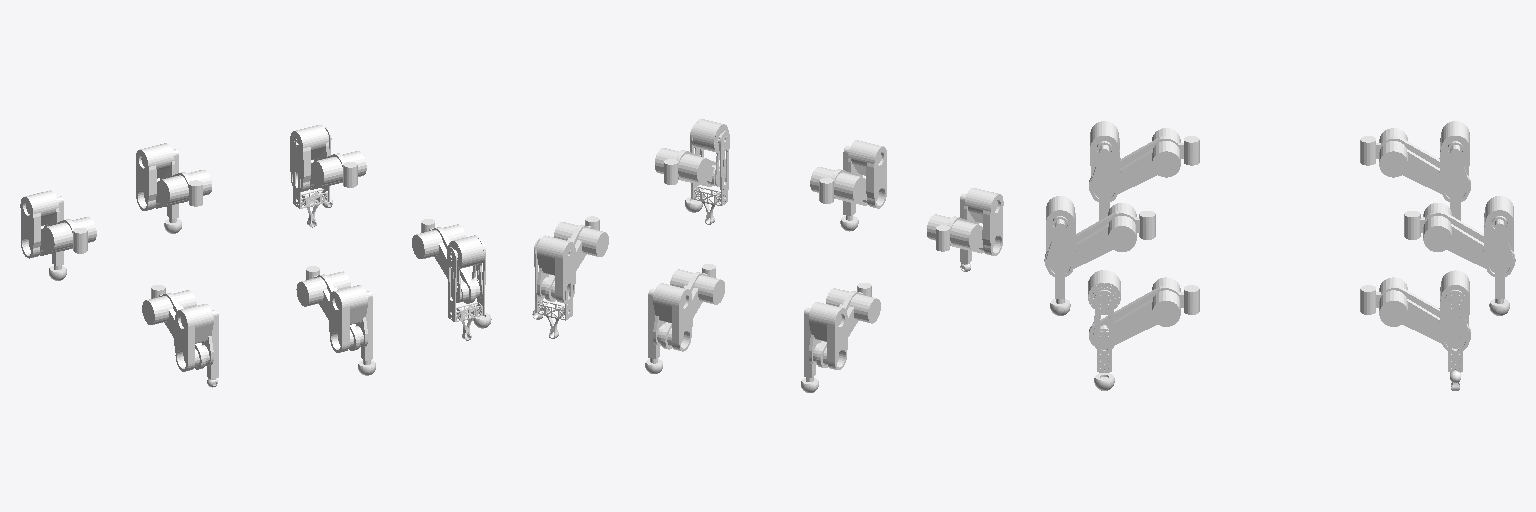
--- Facts derived from the render (not from the file) ---
Views: 3 orthographic renders of the robot side by side, from view 1: azimuth 30°, elevation 25°; view 2: azimuth 150°, elevation 25°; view 3: azimuth 270°, elevation 25°.
Robot: XiangYu — 25 links, 24 joints (18 revolute, 6 fixed); root link base_link; default pose: all joints at 0.
Visible links, largest first — view 1: RF_HIP, RM_THIGH, RB_THIGH, RB_HIP, LM_THIGH, RM_HIP, LB_THIGH, LB_HIP, LM_HIP, LF_HIP, LF_THIGH, RF_SHANK (+4 smaller); view 2: LM_THIGH, LB_THIGH, LM_HIP, LB_HIP, RM_THIGH, LF_HIP, RB_THIGH, RF_HIP, LF_THIGH, RM_HIP, RB_HIP, RF_SHANK (+4 smaller); view 3: RF_HIP, LF_HIP, RM_HIP, LM_HIP, RB_HIP, LB_HIP, RM_THIGH, LM_THIGH, RB_THIGH, LB_THIGH, LF_THIGH, LF_SHANK (+6 smaller).
Boxes of the visible links, left/top/right/bottom form: RF_HIP: left=412, top=219, right=480, bottom=303; RM_THIGH: left=329, top=285, right=367, bottom=352; RB_THIGH: left=174, top=304, right=213, bottom=371; RB_HIP: left=142, top=285, right=209, bottom=369; LM_THIGH: left=136, top=143, right=174, bottom=210; RM_HIP: left=296, top=266, right=363, bottom=350; LB_THIGH: left=20, top=190, right=59, bottom=258; LB_HIP: left=29, top=217, right=96, bottom=255; LM_HIP: left=144, top=170, right=211, bottom=208; LF_HIP: left=309, top=151, right=366, bottom=189; LF_THIGH: left=290, top=125, right=329, bottom=191; RF_SHANK: left=447, top=241, right=485, bottom=340; LM_THIGH: left=653, top=283, right=692, bottom=351; LB_THIGH: left=809, top=302, right=847, bottom=369; LM_HIP: left=657, top=264, right=724, bottom=349; LB_HIP: left=813, top=283, right=880, bottom=367; RM_THIGH: left=848, top=140, right=886, bottom=208; LF_HIP: left=541, top=216, right=608, bottom=301; RB_THIGH: left=964, top=188, right=1003, bottom=255; RF_HIP: left=655, top=148, right=719, bottom=186; LF_THIGH: left=537, top=235, right=575, bottom=303; RM_HIP: left=810, top=167, right=878, bottom=205; RB_HIP: left=927, top=214, right=994, bottom=253; RF_SHANK: left=690, top=124, right=729, bottom=224; RF_HIP: left=1089, top=277, right=1199, bottom=345; LF_HIP: left=1360, top=277, right=1470, bottom=348; RM_HIP: left=1044, top=203, right=1155, bottom=272; LM_HIP: left=1404, top=203, right=1515, bottom=272; RB_HIP: left=1089, top=128, right=1199, bottom=197; LB_HIP: left=1360, top=128, right=1470, bottom=197; RM_THIGH: left=1046, top=196, right=1076, bottom=276; LM_THIGH: left=1483, top=196, right=1513, bottom=276; RB_THIGH: left=1090, top=121, right=1120, bottom=201; LB_THIGH: left=1439, top=121, right=1469, bottom=201; LF_THIGH: left=1439, top=270, right=1469, bottom=350; LF_SHANK: left=1445, top=290, right=1465, bottom=390.
Bounding box of the posed robot: 1.4 × 1.6 × 0.428 m (x, y, z).
Meshes: 25 distinct files referenced, 24 mesh visuals loaded (24 binary STL); not drawn: 1 (reference not matched to a file when rendering).

URDF robot description (XiangYu):
<?xml version="1.0" encoding="utf-8"?>
<!-- This URDF was created by RCAMC k206 ZZL -->
<robot
  name="XiangYu">
  <link
    name="base_link">
    <inertial>
      <origin
        xyz="-3.17836601824023E-05 -2.48295152551897E-05 0.0135000379414812"
        rpy="0 0 0" />
      <mass
        value="35.697" />
      <inertia
        ixx="2.673775"
        ixy="-0.361433135"
        ixz="761.1E-06"
        iyy="7.163591350"
        iyz="-15.915E-06"
        izz="9.49691187" />
    </inertial>
    <visual>
      <origin
        xyz="0 0 0"
        rpy="0 0 0" />
      <geometry>
        <mesh
          filename="package://robot/urdf/elspider3/meshes/base_link.STL" />
      </geometry>
      <material
        name="">
        <color
          rgba="1 1 1 1" />
      </material>
    </visual>
    <collision>
      <origin
        xyz="0 0 0"
        rpy="0 0 0" />
      <geometry>
        <mesh
          filename="package://robot/urdf/elspider3/meshes/base_link.STL" />
      </geometry>
    </collision>
  </link>
  <link
    name="RF_HIP">
    <inertial>
      <origin
        xyz="0.13994 0 -0.038094"
        rpy="0 0 0" />
      <mass
        value="4.576" />
      <inertia
        ixx=" 0.023983507"
        ixy="128.450E-6"
        ixz="19229.644E-6"
        iyy="52366.887E-6"
        iyz=" 73.833E-6"
        izz="48859.116E-6" />
    </inertial>
    <visual>
      <origin
        xyz="0 0 0"
        rpy="0 0 0" />
      <geometry>
        <mesh
          filename="package://robot/urdf/elspider3/meshes/RF_HIP.STL" />
      </geometry>
      <material
        name="">
        <color
          rgba="1 1 1 1" />
      </material>
    </visual>
    <collision>
      <origin
        xyz="0 0 0"
        rpy="0 0 0" />
      <geometry>
        <mesh
          filename="package://robot/urdf/elspider3/meshes/RF_HIP.STL" />
      </geometry>
    </collision>
  </link>
  <joint
    name="RF_HAA"
    type="revolute">
    <origin
      xyz="0.6 -0.3 0"
      rpy="0 0 -1.5708" />
    <parent
      link="base_link" />
    <child
      link="RF_HIP" />
    <axis
      xyz="0 0 1" />
    <limit
      lower="-3.14"
      upper="3.14"
      effort="180"
      velocity="14.65" />
  </joint>
  <link
    name="RF_THIGH">
    <inertial>
      <origin
        xyz="0.10923291892502 -0.000624705561420247 -0.0166641862389202"
        rpy="0 0 0" />
      <mass
        value="0.993" />
      <inertia
        ixx="2436.749E-06"
        ixy="27.289E-06"
        ixz="-202.297E-06"
        iyy="6542.962E-06"
        iyz="71.720E-06"
        izz="5800.246E-06" />
    </inertial>
    <visual>
      <origin
        xyz="0 0 0"
        rpy="0 0 0" />
      <geometry>
        <mesh
          filename="package://robot/urdf/elspider3/meshes/RF_THIGH.STL" />
      </geometry>
      <material
        name="">
        <color
          rgba="1 1 1 1" />
      </material>
    </visual>
    <collision>
      <origin
        xyz="0 0 0"
        rpy="0 0 0" />
      <geometry>
        <mesh
          filename="package://robot/urdf/elspider3/meshes/RF_THIGH.STL" />
      </geometry>
    </collision>
  </link>
  <joint
    name="RF_HFE"
    type="revolute">
    <origin
      xyz="0.29613 0 -0.12556"
      rpy="-1.5708 -1.5708 0" />
    <parent
      link="RF_HIP" />
    <child
      link="RF_THIGH" />
    <axis
      xyz="0 0 1" />
    <limit
      lower="-3.14"
      upper="3.14"
      effort="108"
      velocity="16.22" />
  </joint>
  <link
    name="RF_SHANK">
    <inertial>
      <origin
        xyz="-1.11022302462516E-16 -0.0816966215032782 -0.0418616598294677"
        rpy="0 0 0" />
      <mass
        value="0.428" />
      <inertia
        ixx="4000E-6"
        ixy="-0.056E-6"
        ixz="0.13E-6"
        iyy="1200E-6"
        iyz="-306.404E-6"
        izz="4000E-6" />
    </inertial>
    <visual>
      <origin
        xyz="0 0 0"
        rpy="0 0 0" />
      <geometry>
        <mesh
          filename="package://robot/urdf/elspider3/meshes/RF_SHANK.STL" />
      </geometry>
      <material
        name="">
        <color
          rgba="1 1 1 1" />
      </material>
    </visual>
    <collision>
      <origin
        xyz="0 0 0"
        rpy="0 0 0" />
      <geometry>
        <mesh
          filename="package://robot/urdf/elspider3/meshes/RF_SHANK.STL" />
      </geometry>
    </collision>
  </link>
  <joint
    name="RF_KFE"
    type="revolute">
    <origin
      xyz="0.16 0 0"
      rpy="3.1416 0 1.5708" />
    <parent
      link="RF_THIGH" />
    <child
      link="RF_SHANK" />
    <axis
      xyz="0 0 1" />
    <limit
      lower="-3.14"
      upper="3.14"
      effort="108"
      velocity="16.22" />
  </joint>
  <link
    name="RF_FOOT">
    <inertial>
      <origin
        xyz="0 0 -0.0204313049246201"
        rpy="0 0 0" />
      <mass
        value="0.166" />
      <inertia
        ixx="62.496E-06"
        ixy="0.001E-06"
        ixz="0"
        iyy="62.515E-06"
        iyz="0.002E-06"
        izz="84.269E-06" />
    </inertial>
    <visual>
      <origin
        xyz="0 0 0"
        rpy="0 0 0" />
      <geometry>
        <mesh
          filename="package://robot/urdf/elspider3/meshes/RF_FOOT.STL" />
      </geometry>
      <material
        name="">
        <color
          rgba="1 1 1 1" />
      </material>
    </visual>
    <collision>
      <origin
        xyz="0 0 0"
        rpy="0 0 0" />
      <geometry>
        <mesh
          filename="package://robot/urdf/elspider3/meshes/RF_FOOT.STL" />
      </geometry>
    </collision>
  </link>
  <joint
    name="RF_FIX"
    type="fixed" dont_collapse="true">
    <origin
      xyz="0 -0.286 -0.07"
      rpy="1.5708 0 3.1416" />
    <parent
      link="RF_SHANK" />
    <child
      link="RF_FOOT" />
    <axis
      xyz="0 0 0" />
  </joint>
  <link
    name="RM_HIP">
    <inertial>
      <origin
        xyz="0.139938359267434 5.88058135410304E-17 -0.0380935415481548"
        rpy="0 0 0" />
      <mass
        value="4.576" />
      <inertia
        ixx=" 0.023983507"
        ixy="128.450E-6"
        ixz="19229.644E-6"
        iyy="52366.887E-6"
        iyz=" 73.833E-6"
        izz="48859.116E-6" />
    </inertial>
    <visual>
      <origin
        xyz="0 0 0"
        rpy="0 0 0" />
      <geometry>
        <mesh
          filename="package://robot/urdf/elspider3/meshes/RM_HIP.STL" />
      </geometry>
      <material
        name="">
        <color
          rgba="1 1 1 1" />
      </material>
    </visual>
    <collision>
      <origin
        xyz="0 0 0"
        rpy="0 0 0" />
      <geometry>
        <mesh
          filename="package://robot/urdf/elspider3/meshes/RM_HIP.STL" />
      </geometry>
    </collision>
  </link>
  <joint
    name="RM_HAA"
    type="revolute">
    <origin
      xyz="0 -0.45 0"
      rpy="0 0 -1.5708" />
    <parent
      link="base_link" />
    <child
      link="RM_HIP" />
    <axis
      xyz="0 0 1" />
    <limit
      lower="-3.14"
      upper="3.14"
      effort="180"
      velocity="14.65" />
  </joint>
  <link
    name="RM_THIGH">
    <inertial>
      <origin
        xyz="0.10923291892502 -0.000624705561420247 -0.0166641862389207"
        rpy="0 0 0" />
      <mass
        value="0.993" />
      <inertia
        ixx="2436.749E-06"
        ixy="27.289E-06"
        ixz="-202.297E-06"
        iyy="6542.962E-06"
        iyz="71.720E-06"
        izz="5800.246E-06" />
    </inertial>
    <visual>
      <origin
        xyz="0 0 0"
        rpy="0 0 0" />
      <geometry>
        <mesh
          filename="package://robot/urdf/elspider3/meshes/RM_THIGH.STL" />
      </geometry>
      <material
        name="">
        <color
          rgba="1 1 1 1" />
      </material>
    </visual>
    <collision>
      <origin
        xyz="0 0 0"
        rpy="0 0 0" />
      <geometry>
        <mesh
          filename="package://robot/urdf/elspider3/meshes/RM_THIGH.STL" />
      </geometry>
    </collision>
  </link>
  <joint
    name="RM_HFE"
    type="revolute">
    <origin
      xyz="0.29613 0 -0.12556"
      rpy="-1.5708 -1.5708 0" />
    <parent
      link="RM_HIP" />
    <child
      link="RM_THIGH" />
    <axis
      xyz="0 0 1" />
    <limit
      lower="-3.14"
      upper="3.14"
      effort="108"
      velocity="16.22" />
  </joint>
  <link
    name="RM_SHANK">
    <inertial>
      <origin
        xyz="0 -0.0816966215032781 -0.0418616598294671"
        rpy="0 0 0" />
      <mass
        value="0.428" />
      <inertia
        ixx="4000E-6"
        ixy="-0.056E-6"
        ixz="0.13E-6"
        iyy="1200E-6"
        iyz="-306.404E-6"
        izz="4000E-6" />
    </inertial>
    <visual>
      <origin
        xyz="0 0 0"
        rpy="0 0 0" />
      <geometry>
        <mesh
          filename="package://robot/urdf/elspider3/meshes/RM_SHANK.STL" />
      </geometry>
      <material
        name="">
        <color
          rgba="1 1 1 1" />
      </material>
    </visual>
    <collision>
      <origin
        xyz="0 0 0"
        rpy="0 0 0" />
      <geometry>
        <mesh
          filename="package://robot/urdf/elspider3/meshes/RM_SHANK.STL" />
      </geometry>
    </collision>
  </link>
  <joint
    name="RM_KFE"
    type="revolute">
    <origin
      xyz="0.16 0 0"
      rpy="3.1416 0 1.5708" />
    <parent
      link="RM_THIGH" />
    <child
      link="RM_SHANK" />
    <axis
      xyz="0 0 1" />
    <limit
      lower="-3.14"
      upper="3.14"
      effort="108"
      velocity="16.22" />
  </joint>
  <link
    name="RM_FOOT">
    <inertial>
      <origin
        xyz="1.11022302462516E-16 0 -0.02043130492462"
        rpy="0 0 0" />
      <mass
        value="0.166" />
      <inertia
        ixx="62.496E-06"
        ixy="0.001E-06"
        ixz="0"
        iyy="62.515E-06"
        iyz="0.002E-06"
        izz="84.269E-06" />
    </inertial>
    <visual>
      <origin
        xyz="0 0 0"
        rpy="0 0 0" />
      <geometry>
        <mesh
          filename="package://robot/urdf/elspider3/meshes/RM_FOOT.STL" />
      </geometry>
      <material
        name="">
        <color
          rgba="1 1 1 1" />
      </material>
    </visual>
    <collision>
      <origin
        xyz="0 0 0"
        rpy="0 0 0" />
      <geometry>
        <mesh
          filename="package://robot/urdf/elspider3/meshes/RM_FOOT.STL" />
      </geometry>
    </collision>
  </link>
  <joint
    name="RM_FIX"
    type="fixed" dont_collapse="true">
    <origin
      xyz="0 -0.286 -0.07"
      rpy="1.5708 0 3.1416" />
    <parent
      link="RM_SHANK" />
    <child
      link="RM_FOOT" />
    <axis
      xyz="0 0 0" />
  </joint>
  <link
    name="RB_HIP">
    <inertial>
      <origin
        xyz="0.139938359267434 0 -0.0380935415481548"
        rpy="0 0 0" />
      <mass
        value="4.576" />
      <inertia
        ixx=" 0.023983507"
        ixy="128.450E-6"
        ixz="19229.644E-6"
        iyy="52366.887E-6"
        iyz=" 73.833E-6"
        izz="48859.116E-6" />
    </inertial>
    <visual>
      <origin
        xyz="0 0 0"
        rpy="0 0 0" />
      <geometry>
        <mesh
          filename="package://robot/urdf/elspider3/meshes/RB_HIP.STL" />
      </geometry>
      <material
        name="">
        <color
          rgba="1 1 1 1" />
      </material>
    </visual>
    <collision>
      <origin
        xyz="0 0 0"
        rpy="0 0 0" />
      <geometry>
        <mesh
          filename="package://robot/urdf/elspider3/meshes/RB_HIP.STL" />
      </geometry>
    </collision>
  </link>
  <joint
    name="RB_HAA"
    type="revolute">
    <origin
      xyz="-0.6 -0.3 0"
      rpy="0 0 -1.5708" />
    <parent
      link="base_link" />
    <child
      link="RB_HIP" />
    <axis
      xyz="0 0 1" />
    <limit
      lower="-3.14"
      upper="3.14"
      effort="180"
      velocity="14.65" />
  </joint>
  <link
    name="RB_THIGH">
    <inertial>
      <origin
        xyz="0.10923291892502 -0.000624568769209466 -0.016664186238915"
        rpy="0 0 0" />
      <mass
        value="0.993" />
      <inertia
        ixx="2436.749E-06"
        ixy="27.289E-06"
        ixz="-202.297E-06"
        iyy="6542.962E-06"
        iyz="71.720E-06"
        izz="5800.246E-06" />
    </inertial>
    <visual>
      <origin
        xyz="0 0 0"
        rpy="0 0 0" />
      <geometry>
        <mesh
          filename="package://robot/urdf/elspider3/meshes/RB_THIGH.STL" />
      </geometry>
      <material
        name="">
        <color
          rgba="1 1 1 1" />
      </material>
    </visual>
    <collision>
      <origin
        xyz="0 0 0"
        rpy="0 0 0" />
      <geometry>
        <mesh
          filename="package://robot/urdf/elspider3/meshes/RB_THIGH.STL" />
      </geometry>
    </collision>
  </link>
  <joint
    name="RB_HFE"
    type="revolute">
    <origin
      xyz="0.29613 0 -0.12556"
      rpy="-1.5708 -1.5708 0" />
    <parent
      link="RB_HIP" />
    <child
      link="RB_THIGH" />
    <axis
      xyz="0 0 1" />
    <limit
      lower="-3.14"
      upper="3.14"
      effort="108"
      velocity="16.22" />
  </joint>
  <link
    name="RB_SHANK">
    <inertial>
      <origin
        xyz="1.36792210891912E-07 -0.0816966215032781 -0.0418616598294727"
        rpy="0 0 0" />
      <mass
        value="0.428" />
      <inertia
        ixx="4000E-6"
        ixy="-0.056E-6"
        ixz="0.13E-6"
        iyy="1200E-6"
        iyz="-306.404E-6"
        izz="4000E-6" />
    </inertial>
    <visual>
      <origin
        xyz="0 0 0"
        rpy="0 0 0" />
      <geometry>
        <mesh
          filename="package://robot/urdf/elspider3/meshes/RB_SHANK.STL" />
      </geometry>
      <material
        name="">
        <color
          rgba="1 1 1 1" />
      </material>
    </visual>
    <collision>
      <origin
        xyz="0 0 0"
        rpy="0 0 0" />
      <geometry>
        <mesh
          filename="package://robot/urdf/elspider3/meshes/RB_SHANK.STL" />
      </geometry>
    </collision>
  </link>
  <joint
    name="RB_KFE"
    type="revolute">
    <origin
      xyz="0.16 0 0"
      rpy="3.1416 0 1.5708" />
    <parent
      link="RB_THIGH" />
    <child
      link="RB_SHANK" />
    <axis
      xyz="0 0 1" />
    <limit
      lower="-3.14"
      upper="3.14"
      effort="108"
      velocity="16.22" />
  </joint>
  <link
    name="RB_FOOT">
    <inertial>
      <origin
        xyz="0 0 -0.0204313049246201"
        rpy="0 0 0" />
      <mass
        value="0.166" />
      <inertia
        ixx="62.496E-06"
        ixy="0.001E-06"
        ixz="0"
        iyy="62.515E-06"
        iyz="0.002E-06"
        izz="84.269E-06" />
    </inertial>
    <visual>
      <origin
        xyz="0 0 0"
        rpy="0 0 0" />
      <geometry>
        <mesh
          filename="package://robot/urdf/elspider3/meshes/RB_FOOT.STL" />
      </geometry>
      <material
        name="">
        <color
          rgba="1 1 1 1" />
      </material>
    </visual>
    <collision>
      <origin
        xyz="0 0 0"
        rpy="0 0 0" />
      <geometry>
        <mesh
          filename="package://robot/urdf/elspider3/meshes/RB_FOOT.STL" />
      </geometry>
    </collision>
  </link>
  <joint
    name="RB_FIX"
    type="fixed" dont_collapse="true">
    <origin
      xyz="0 -0.286 -0.0700000000000011"
      rpy="1.5707963267949 0 3.14159265358979" />
    <parent
      link="RB_SHANK" />
    <child
      link="RB_FOOT" />
    <axis
      xyz="0 0 0" />
  </joint>
  <link
    name="LF_HIP">
    <inertial>
      <origin
        xyz="0.000248105860530035 0.139937948890802 -0.0380935415481548"
        rpy="0 0 0" />
      <mass
        value="4.576" />
      <inertia
        ixx="52366.887E-6"
        ixy="-128.450E-6"
        ixz="73.833E-6"
        iyy="0.023983507"
        iyz="19229.644E-6"
        izz="48859.116E-6" />
    </inertial>
    <visual>
      <origin
        xyz="0 0 0"
        rpy="0 0 0" />
      <geometry>
        <mesh
          filename="package://robot/urdf/elspider3/meshes/LF_HIP.STL" />
      </geometry>
      <material
        name="">
        <color
          rgba="1 1 1 1" />
      </material>
    </visual>
    <collision>
      <origin
        xyz="0 0 0"
        rpy="0 0 0" />
      <geometry>
        <mesh
          filename="package://robot/urdf/elspider3/meshes/LF_HIP.STL" />
      </geometry>
    </collision>
  </link>
  <joint
    name="LF_HAA"
    type="revolute">
    <origin
      xyz="0.59975 0.3 0"
      rpy="0 0 0" />
    <parent
      link="base_link" />
    <child
      link="LF_HIP" />
    <axis
      xyz="0 0 -1" />
    <limit
      lower="-3.14"
      upper="3.14"
      effort="180"
      velocity="14.65" />
  </joint>
  <link
    name="LF_THIGH">
    <inertial>
      <origin
        xyz="0.109232918925035 -0.000624705561416805 0.0166641862389164"
        rpy="0 0 0" />
      <mass
        value="0.993" />
      <inertia
        ixx="2436.749E-06"
        ixy="-27.289E-06"
        ixz="202.297E-06"
        iyy="6542.962E-06"
        iyz="71.720E-06"
        izz="5800.246E-06" />
    </inertial>
    <visual>
      <origin
        xyz="0 0 0"
        rpy="0 0 0" />
      <geometry>
        <mesh
          filename="package://robot/urdf/elspider3/meshes/LF_THIGH.STL" />
      </geometry>
      <material
        name="">
        <color
          rgba="1 1 1 1" />
      </material>
    </visual>
    <collision>
      <origin
        xyz="0 0 0"
        rpy="0 0 0" />
      <geometry>
        <mesh
          filename="package://robot/urdf/elspider3/meshes/LF_THIGH.STL" />
      </geometry>
    </collision>
  </link>
  <joint
    name="LF_HFE"
    type="revolute">
    <origin
      xyz="0.00024811 0.29613 -0.12556"
      rpy="0 -1.5708 0" />
    <parent
      link="LF_HIP" />
    <child
      link="LF_THIGH" />
    <axis
      xyz="0 0 1" />
    <limit
      lower="-3.14"
      upper="3.14"
      effort="108"
      velocity="16.22" />
  </joint>
  <link
    name="LF_SHANK">
    <inertial>
      <origin
        xyz="-7.7715611723761E-16 -0.0816966215032775 0.041861659829467"
        rpy="0 0 0" />
      <mass
        value="0.55881277413683" />
      <inertia
        ixx="4000E-6"
        ixy="0.056E-6"
        ixz="0.13E-6"
        iyy="1200E-6"
        iyz="306.404E-6"
        izz="4000E-6" />
    </inertial>
    <visual>
      <origin
        xyz="0 0 0"
        rpy="0 0 0" />
      <geometry>
        <mesh
          filename="package://robot/urdf/elspider3/meshes/LF_SHANK.STL" />
      </geometry>
      <material
        name="">
        <color
          rgba="1 1 1 1" />
      </material>
    </visual>
    <collision>
      <origin
        xyz="0 0 0"
        rpy="0 0 0" />
      <geometry>
        <mesh
          filename="package://robot/urdf/elspider3/meshes/LF_SHANK.STL" />
      </geometry>
    </collision>
  </link>
  <joint
    name="LF_KFE"
    type="revolute">
    <origin
      xyz="0.16 0 0"
      rpy="3.1416 0 1.5708" />
    <parent
      link="LF_THIGH" />
    <child
      link="LF_SHANK" />
    <axis
      xyz="0 0 1" />
    <limit
      lower="-3.14"
      upper="3.14"
      effort="108"
      velocity="16.22" />
  </joint>
  <link
    name="LF_FOOT">
    <inertial>
      <origin
        xyz="0 0 -0.0204313049246201"
        rpy="0 0 0" />
      <mass
        value="0.166" />
      <inertia
        ixx="62.496E-06"
        ixy="0.001E-06"
        ixz="0"
        iyy="62.515E-06"
        iyz="0.002E-06"
        izz="84.269E-06" />
    </inertial>
    <visual>
      <origin
        xyz="0 0 0"
        rpy="0 0 0" />
      <geometry>
        <mesh
          filename="package://robot/urdf/elspider3/meshes/LF_FOOT.STL" />
      </geometry>
      <material
        name="">
        <color
          rgba="1 1 1 1" />
      </material>
    </visual>
    <collision>
      <origin
        xyz="0 0 0"
        rpy="0 0 0" />
      <geometry>
        <mesh
          filename="package://robot/urdf/elspider3/meshes/LF_FOOT.STL" />
      </geometry>
    </collision>
  </link>
  <joint
    name="LF_FIX"
    type="fixed" dont_collapse="true">
    <origin
      xyz="0 -0.286 0.0699999999999955"
      rpy="1.5707963267949 0 3.14159265358979" />
    <parent
      link="LF_SHANK" />
    <child
      link="LF_FOOT" />
    <axis
      xyz="0 0 0" />
  </joint>
  <link
    name="LM_HIP">
    <inertial>
      <origin
        xyz="3.927785459003E-15 0.139938085683012 -0.0380935415481548"
        rpy="0 0 0" />
      <mass
        value="0.428" />
      <inertia
        ixx="52366.887E-6"
        ixy="-128.450E-6"
        ixz="73.833E-6"
        iyy="0.023983507"
        iyz="19229.644E-6"
        izz="48859.116E-6" />
    </inertial>
    <visual>
      <origin
        xyz="0 0 0"
        rpy="0 0 0" />
      <geometry>
        <mesh
          filename="package://robot/urdf/elspider3/meshes/LM_HIP.STL" />
      </geometry>
      <material
        name="">
        <color
          rgba="1 1 1 1" />
      </material>
    </visual>
    <collision>
      <origin
        xyz="0 0 0"
        rpy="0 0 0" />
      <geometry>
        <mesh
          filename="package://robot/urdf/elspider3/meshes/LM_HIP.STL" />
      </geometry>
    </collision>
  </link>
  <joint
    name="LM_HAA"
    type="revolute">
    <origin
      xyz="0 0.45 0"
      rpy="0 0 0" />
    <parent
      link="base_link" />
    <child
      link="LM_HIP" />
    <axis
      xyz="0 0 -1" />
    <limit
      lower="-3.14"
      upper="3.14"
      effort="180"
      velocity="14.65" />
  </joint>
  <link
    name="LM_THIGH">
    <inertial>
      <origin
        xyz="0.109232918925021 -0.000624705561419137 0.0166641862389162"
        rpy="0 0 0" />
      <mass
        value="0.993" />
      <inertia
        ixx="2436.749E-06"
        ixy="-27.289E-06"
        ixz="202.297E-06"
        iyy="6542.962E-06"
        iyz="71.720E-06"
        izz="5800.246E-06" />
    </inertial>
    <visual>
      <origin
        xyz="0 0 0"
        rpy="0 0 0" />
      <geometry>
        <mesh
          filename="package://robot/urdf/elspider3/meshes/LM_THIGH.STL" />
      </geometry>
      <material
        name="">
        <color
          rgba="1 1 1 1" />
      </material>
    </visual>
    <collision>
      <origin
        xyz="0 0 0"
        rpy="0 0 0" />
      <geometry>
        <mesh
          filename="package://robot/urdf/elspider3/meshes/LM_THIGH.STL" />
      </geometry>
    </collision>
  </link>
  <joint
    name="LM_HFE"
    type="revolute">
    <origin
      xyz="0 0.29613 -0.12556"
      rpy="0 -1.5708 0" />
    <parent
      link="LM_HIP" />
    <child
      link="LM_THIGH" />
    <axis
      xyz="0 0 1" />
    <limit
      lower="-3.14"
      upper="3.14"
      effort="108"
      velocity="16.22" />
  </joint>
  <link
    name="LM_SHANK">
    <inertial>
      <origin
        xyz="0 -0.0816966215032781 0.0418616598294668"
        rpy="0 0 0" />
      <mass
        value="0.428" />
      <inertia
        ixx="4000E-6"
        ixy="0.056E-6"
        ixz="0.13E-6"
        iyy="1200E-6"
        iyz="306.404E-6"
        izz="4000E-6" />
    </inertial>
    <visual>
      <origin
        xyz="0 0 0"
        rpy="0 0 0" />
      <geometry>
        <mesh
          filename="package://robot/urdf/elspider3/meshes/LM_SHANK.STL" />
      </geometry>
      <material
        name="">
        <color
          rgba="1 1 1 1" />
      </material>
    </visual>
    <collision>
      <origin
        xyz="0 0 0"
        rpy="0 0 0" />
      <geometry>
        <mesh
          filename="package://robot/urdf/elspider3/meshes/LM_SHANK.STL" />
      </geometry>
    </collision>
  </link>
  <joint
    name="LM_KFE"
    type="revolute">
    <origin
      xyz="0.16 0 0"
      rpy="3.1416 0 1.5708" />
    <parent
      link="LM_THIGH" />
    <child
      link="LM_SHANK" />
    <axis
      xyz="0 0 1" />
    <limit
      lower="-3.14"
      upper="3.14"
      effort="108"
      velocity="16.22" />
  </joint>
  <link
    name="LM_FOOT">
    <inertial>
      <origin
        xyz="-1.11022302462516E-16 0 -0.02043130492462"
        rpy="0 0 0" />
      <mass
        value="0.166" />
      <inertia
        ixx="62.496E-06"
        ixy="0.001E-06"
        ixz="0"
        iyy="62.515E-06"
        iyz="0.002E-06"
        izz="84.269E-06" />
    </inertial>
    <visual>
      <origin
        xyz="0 0 0"
        rpy="0 0 0" />
      <geometry>
        <mesh
          filename="package://robot/urdf/elspider3/meshes/LM_FOOT.STL" />
      </geometry>
      <material
        name="">
        <color
          rgba="1 1 1 1" />
      </material>
    </visual>
    <collision>
      <origin
        xyz="0 0 0"
        rpy="0 0 0" />
      <geometry>
        <mesh
          filename="package://robot/urdf/elspider3/meshes/LM_FOOT.STL" />
      </geometry>
    </collision>
  </link>
  <joint
    name="LM_FIX"
    type="fixed" dont_collapse="true">
    <origin
      xyz="0 -0.286 0.0699999999999953"
      rpy="1.5707963267949 0 3.14159265358979" />
    <parent
      link="LM_SHANK" />
    <child
      link="LM_FOOT" />
    <axis
      xyz="0 0 0" />
  </joint>
  <link
    name="LB_HIP">
    <inertial>
      <origin
        xyz="-5.88418203051333E-15 0.139937948890798 -0.0380935415481548"
        rpy="0 0 0" />
      <mass
        value="4.576" />
      <inertia
        ixx="52366.887E-6"
        ixy="-128.450E-6"
        ixz="73.833E-6"
        iyy="0.023983507"
        iyz="19229.644E-6"
        izz="48859.116E-6" />
    </inertial>
    <visual>
      <origin
        xyz="0 0 0"
        rpy="0 0 0" />
      <geometry>
        <mesh
          filename="package://robot/urdf/elspider3/meshes/LB_HIP.STL" />
      </geometry>
      <material
        name="">
        <color
          rgba="1 1 1 1" />
      </material>
    </visual>
    <collision>
      <origin
        xyz="0 0 0"
        rpy="0 0 0" />
      <geometry>
        <mesh
          filename="package://robot/urdf/elspider3/meshes/LB_HIP.STL" />
      </geometry>
    </collision>
  </link>
  <joint
    name="LB_HAA"
    type="revolute">
    <origin
      xyz="-0.6 0.3 0"
      rpy="0 0 0" />
    <parent
      link="base_link" />
    <child
      link="LB_HIP" />
    <axis
      xyz="0 0 -1" />
    <limit
      lower="-3.14"
      upper="3.14"
      effort="180"
      velocity="14.65" />
  </joint>
  <link
    name="LB_THIGH">
    <inertial>
      <origin
        xyz="0.109232918925019 -0.000624705561419581 0.0166641862389152"
        rpy="0 0 0" />
      <mass
        value="0.993" />
      <inertia
        ixx="2436.749E-06"
        ixy="-27.289E-06"
        ixz="202.297E-06"
        iyy="6542.962E-06"
        iyz="71.720E-06"
        izz="5800.246E-06" />
    </inertial>
    <visual>
      <origin
        xyz="0 0 0"
        rpy="0 0 0" />
      <geometry>
        <mesh
          filename="package://robot/urdf/elspider3/meshes/LB_THIGH.STL" />
      </geometry>
      <material
        name="">
        <color
          rgba="1 1 1 1" />
      </material>
    </visual>
    <collision>
      <origin
        xyz="0 0 0"
        rpy="0 0 0" />
      <geometry>
        <mesh
          filename="package://robot/urdf/elspider3/meshes/LB_THIGH.STL" />
      </geometry>
    </collision>
  </link>
  <joint
    name="LB_HFE"
    type="revolute">
    <origin
      xyz="0 0.29613 -0.12556"
      rpy="0 -1.5708 0" />
    <parent
      link="LB_HIP" />
    <child
      link="LB_THIGH" />
    <axis
      xyz="0 0 1" />
    <limit
      lower="-3.14"
      upper="3.14"
      effort="108"
      velocity="16.22" />
  </joint>
  <link
    name="LB_SHANK">
    <inertial>
      <origin
        xyz="-7.7715611723761E-16 -0.0816966215032776 0.0418616598294725"
        rpy="0 0 0" />
      <mass
        value="0.428" />
      <inertia
        ixx="4000E-6"
        ixy="0.056E-6"
        ixz="0.13E-6"
        iyy="1200E-6"
        iyz="306.404E-6"
        izz="4000E-6" />
    </inertial>
    <visual>
      <origin
        xyz="0 0 0"
        rpy="0 0 0" />
      <geometry>
        <mesh
          filename="package://robot/urdf/elspider3/meshes/LB_SHANK.STL" />
      </geometry>
      <material
        name="">
        <color
          rgba="1 1 1 1" />
      </material>
    </visual>
    <collision>
      <origin
        xyz="0 0 0"
        rpy="0 0 0" />
      <geometry>
        <mesh
          filename="package://robot/urdf/elspider3/meshes/LB_SHANK.STL" />
      </geometry>
    </collision>
  </link>
  <joint
    name="LB_KFE"
    type="revolute">
    <origin
      xyz="0.16 0 0"
      rpy="3.1416 0 1.5708" />
    <parent
      link="LB_THIGH" />
    <child
      link="LB_SHANK" />
    <axis
      xyz="0 0 1" />
    <limit
      lower="-3.14"
      upper="3.14"
      effort="108"
      velocity="16.22" />
  </joint>
  <link
    name="LB_FOOT">
    <inertial>
      <origin
        xyz="0 0 -0.0204313049246201"
        rpy="0 0 0" />
      <mass
        value="0.166" />
      <inertia
        ixx="62.496E-06"
        ixy="0.001E-06"
        ixz="0"
        iyy="62.515E-06"
        iyz="0.002E-06"
        izz="84.269E-06" />
    </inertial>
    <visual>
      <origin
        xyz="0 0 0"
        rpy="0 0 0" />
      <geometry>
        <mesh
          filename="package://robot/urdf/elspider3/meshes/LB_FOOT.STL" />
      </geometry>
      <material
        name="">
        <color
          rgba="1 1 1 1" />
      </material>
    </visual>
    <collision>
      <origin
        xyz="0 0 0"
        rpy="0 0 0" />
      <geometry>
        <mesh
          filename="package://robot/urdf/elspider3/meshes/LB_FOOT.STL" />
      </geometry>
    </collision>
  </link>
  <joint
    name="LB_FIX"
    type="fixed" dont_collapse="true">
    <origin
      xyz="0 -0.286 0.07"
      rpy="1.5708 0 3.1416" />
    <parent
      link="LB_SHANK" />
    <child
      link="LB_FOOT" />
    <axis
      xyz="0 0 0" />
  </joint>
</robot>
